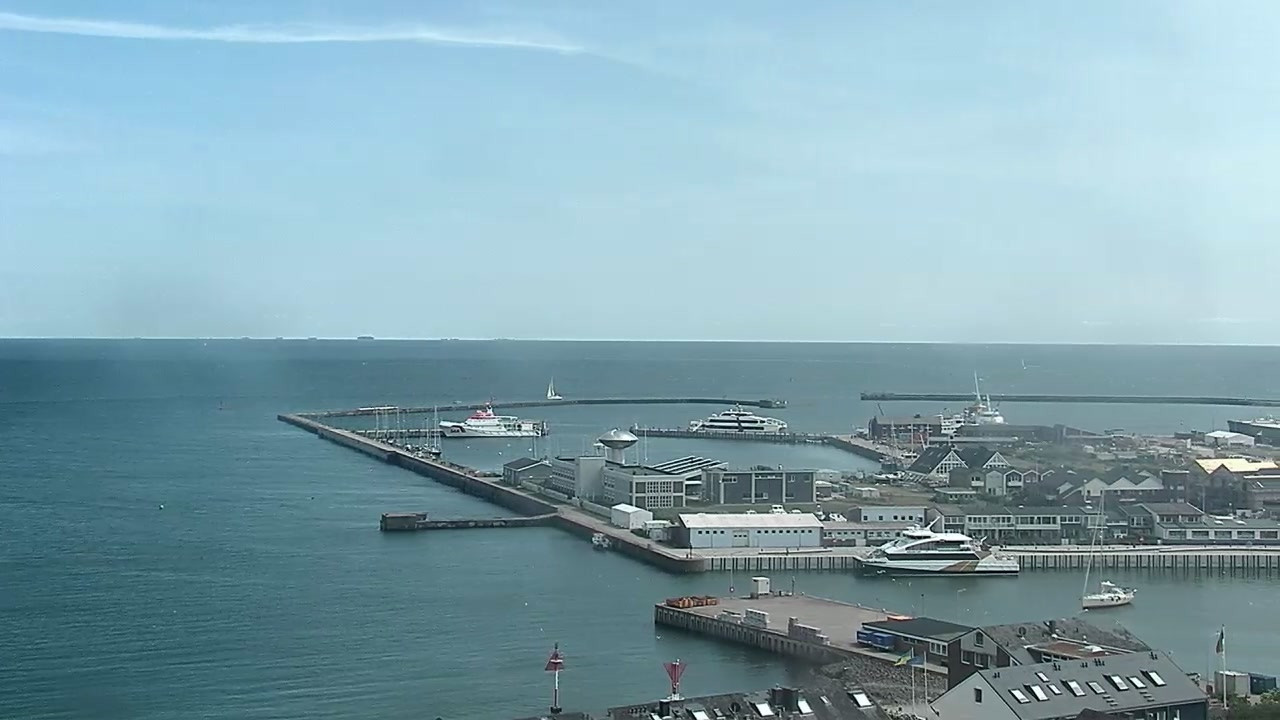sea: (850, 514, 1019, 577), (1078, 485, 1137, 608), (437, 402, 541, 436), (687, 401, 787, 431), (961, 372, 1007, 425), (423, 403, 442, 456), (590, 531, 613, 550), (546, 375, 563, 399), (357, 334, 375, 340)
